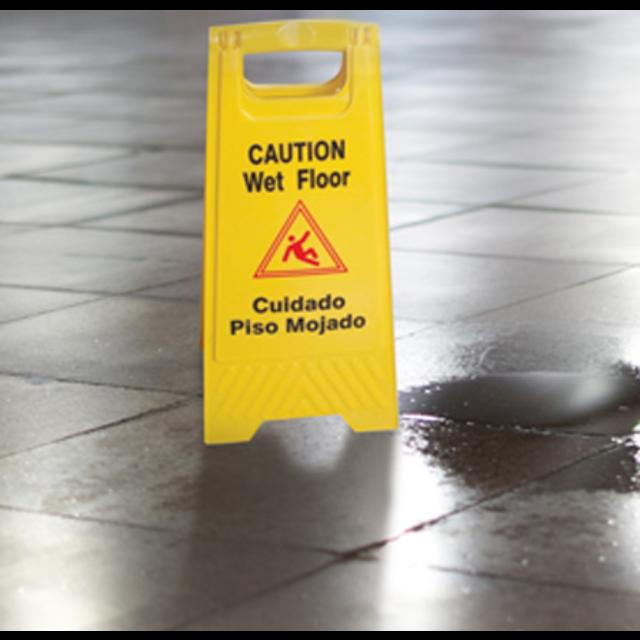slippery_floor: (200, 18, 396, 442)
